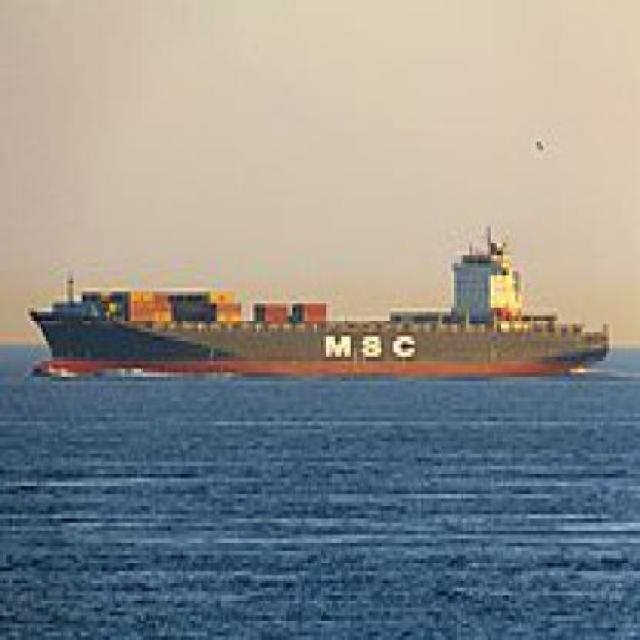container: (22, 228, 620, 394)
